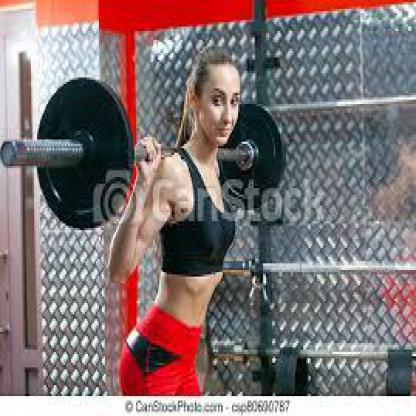barbell: (2, 76, 287, 232)
